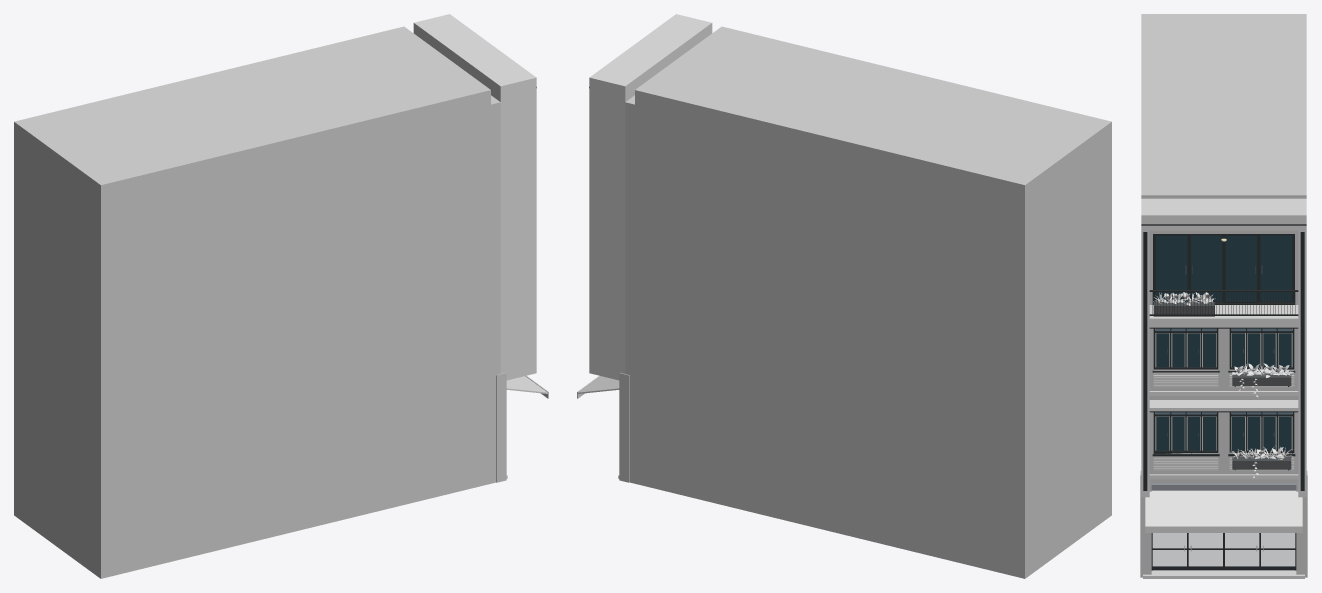
Rendered from OW_Mau_NhaPho_6_0_1.fbx.
The picture shows the model from 3 angles, left to right: view 1: azimuth 30°, elevation 25°; view 2: azimuth 150°, elevation 25°; view 3: azimuth 270°, elevation 25°; orthographic projection. The views are drawn at different scales.
Visible parts, largest first — view 1: OW_NhaPho_9026; view 2: OW_NhaPho_9026; view 3: OW_NhaPho_9026, OW_MatTienKinh.
Part boxes in pixels (box(x1,y1,x2,y2)): OW_NhaPho_9026: box(14, 14, 548, 578); OW_NhaPho_9026: box(577, 14, 1111, 578); OW_NhaPho_9026: box(1140, 14, 1307, 578); OW_MatTienKinh: box(1151, 483, 1296, 570).
Size of the model in its own units: 17.77 by 14.9 by 6.
